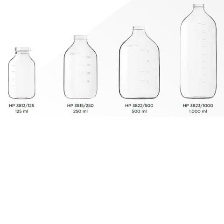bottle: (175, 1, 222, 101), (111, 21, 162, 103), (61, 31, 103, 101), (3, 44, 39, 101)
